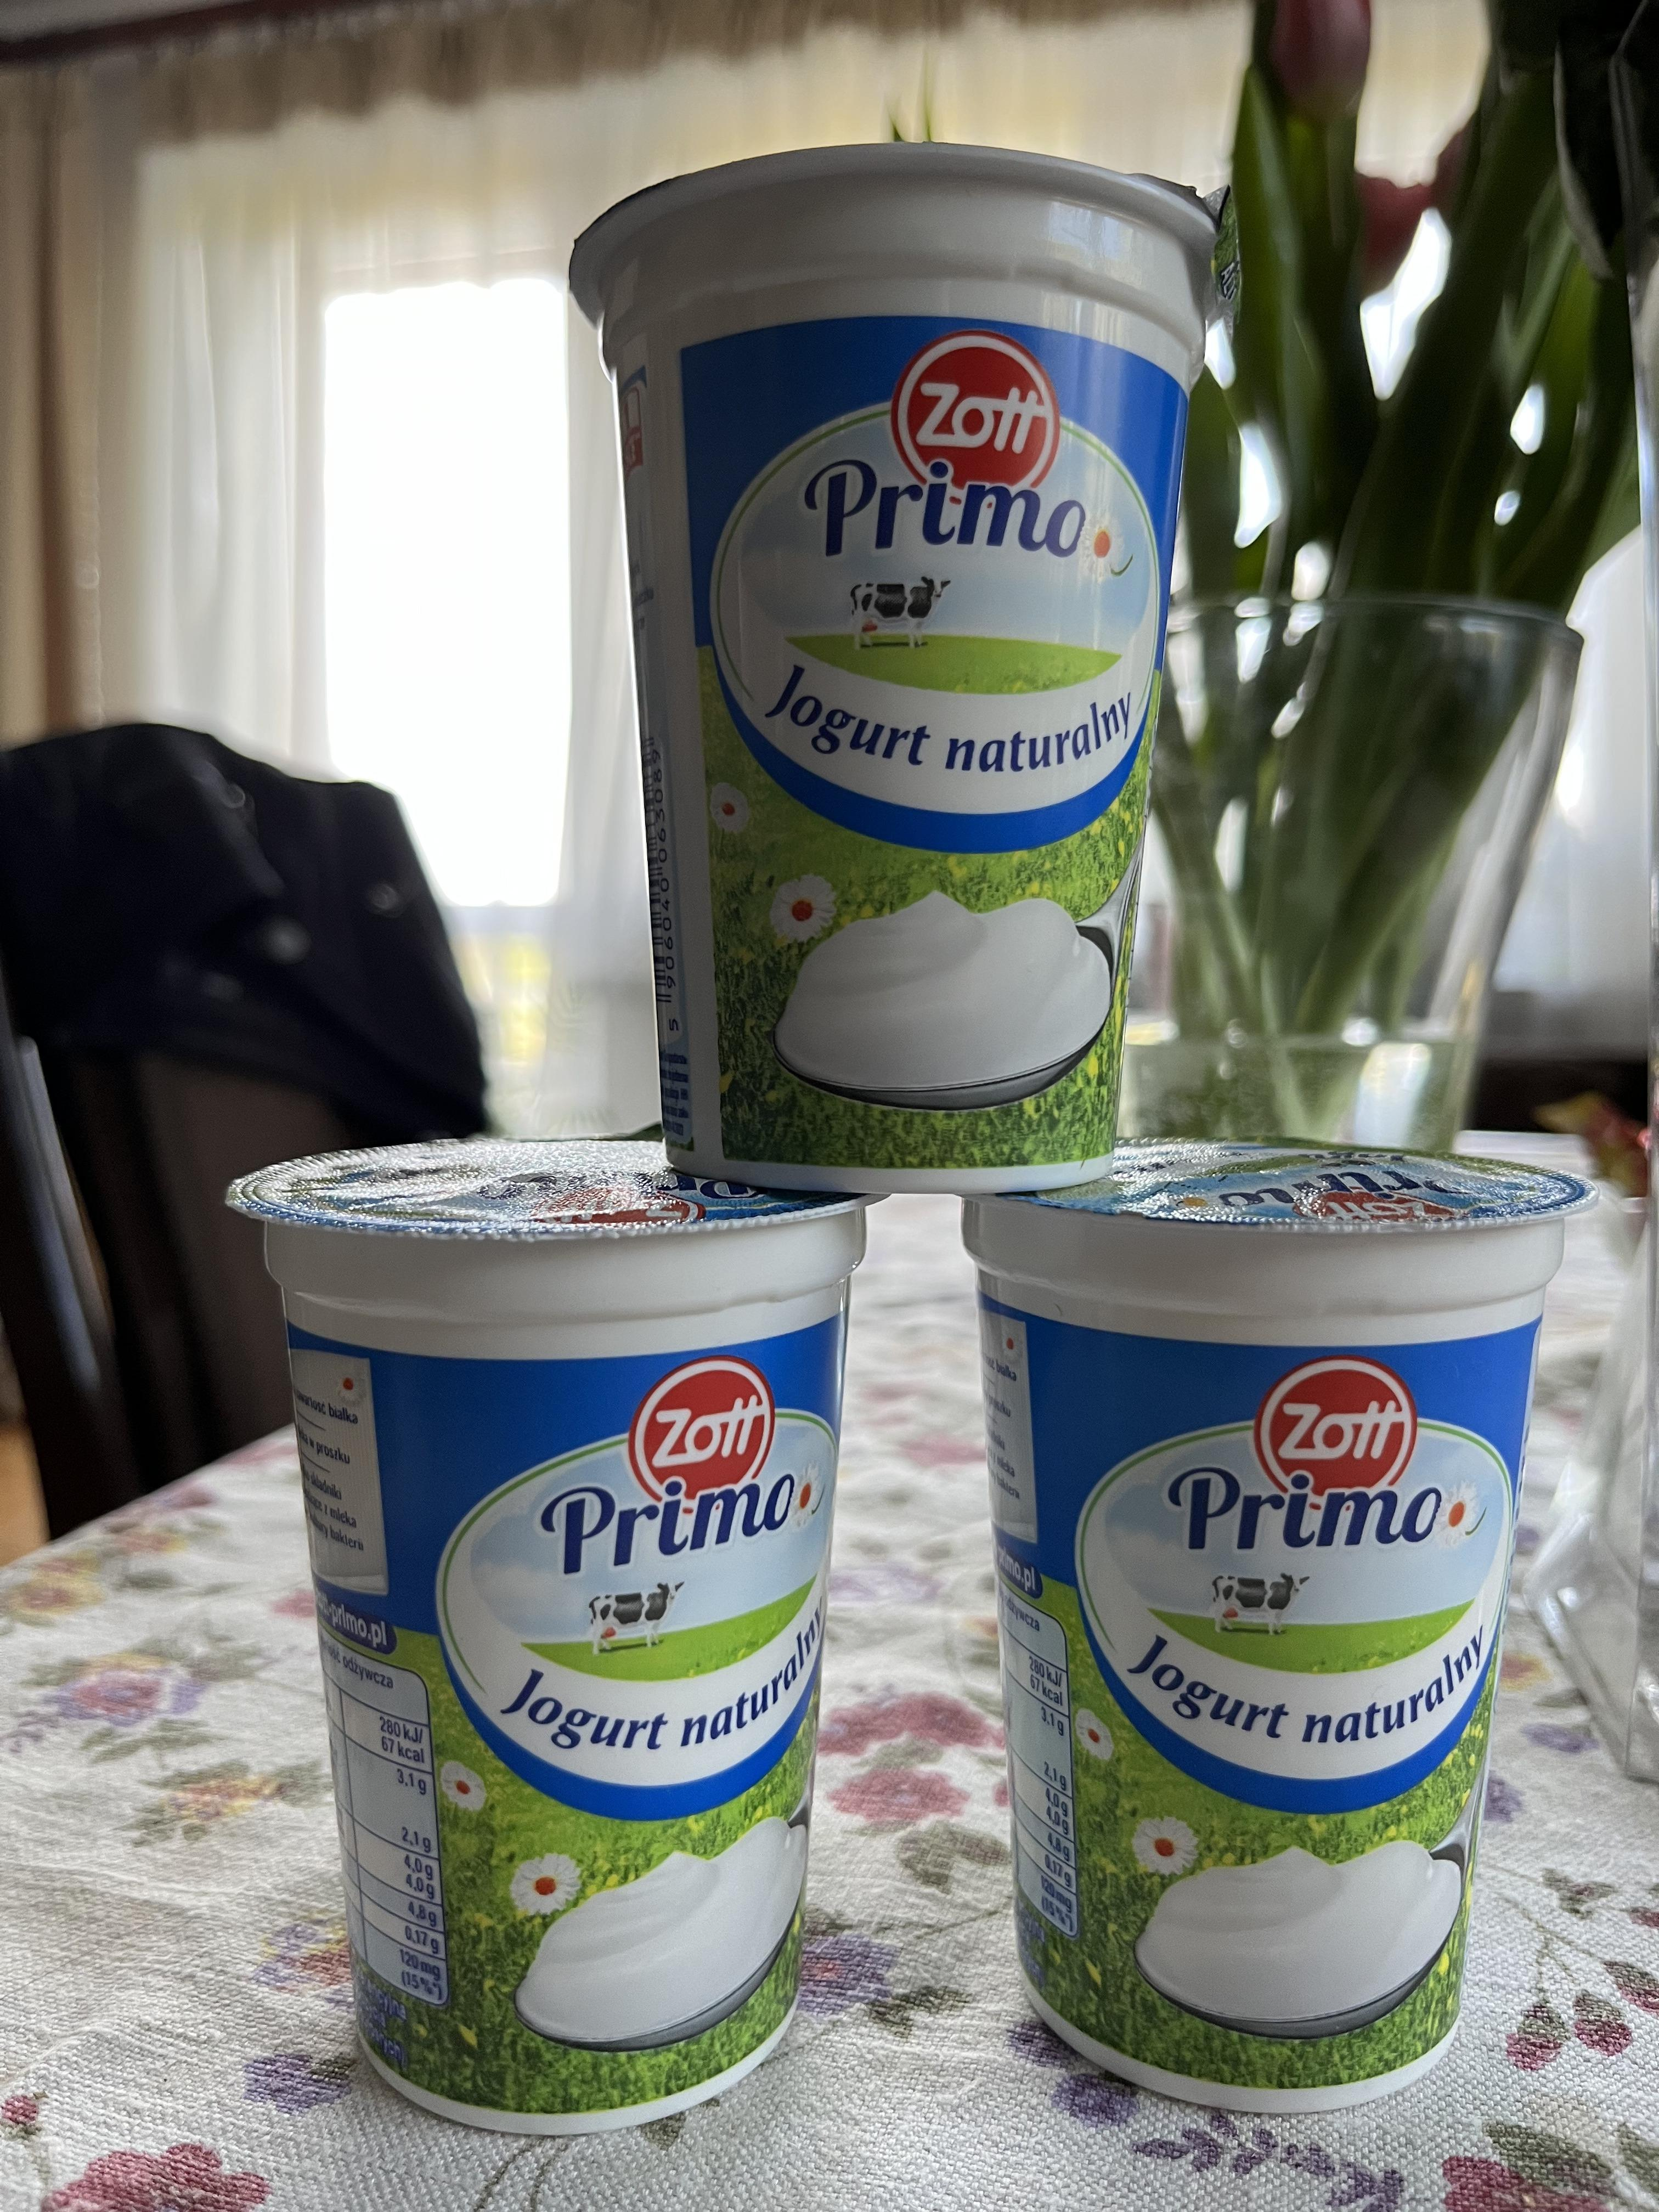Yogurt: (619, 145, 1145, 1191), (277, 1157, 833, 2120), (993, 1172, 1506, 2125)
